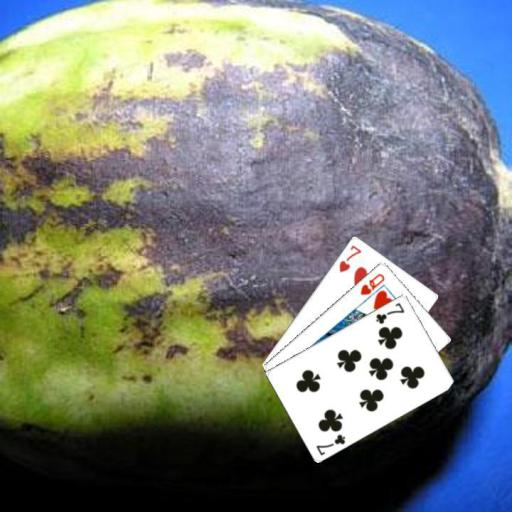7C: (373, 299, 406, 325), (313, 431, 347, 456)
7H: (336, 242, 363, 274)
QH: (357, 270, 386, 297)
